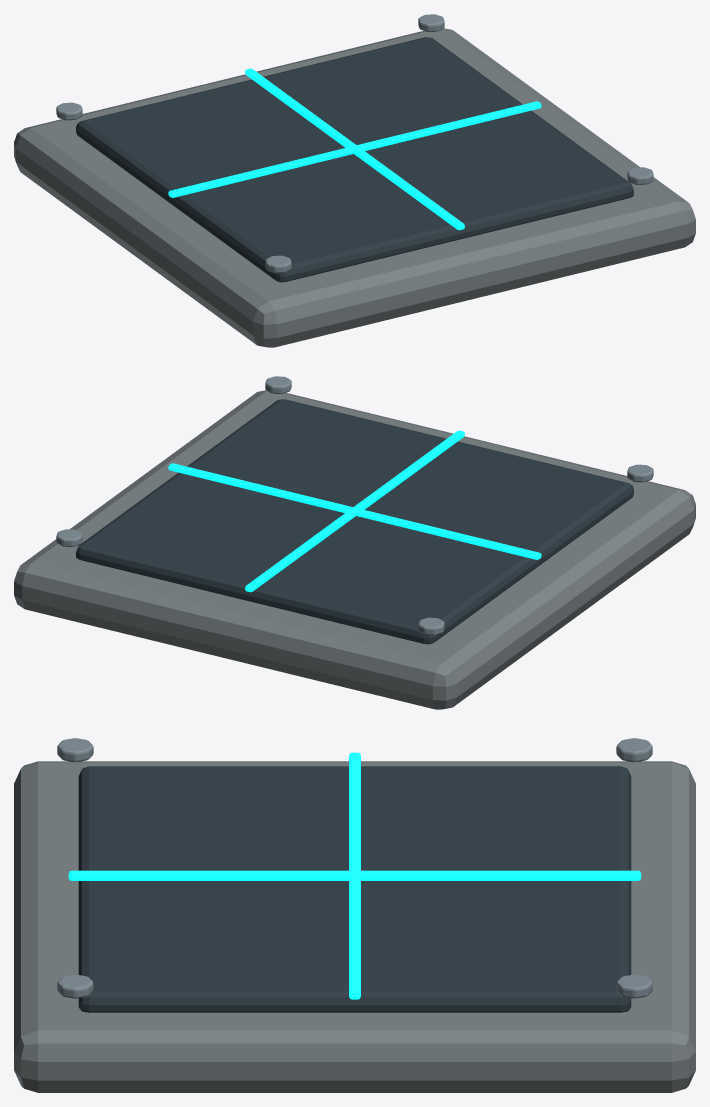
The model's file is Floor-Tile.glb.
3 views of the same model, one above another, from view 1: azimuth 30°, elevation 25°; view 2: azimuth 150°, elevation 25°; view 3: azimuth 270°, elevation 25° (orthographic). The views are drawn at different scales.
Visible parts, largest first — view 1: FloorTile_MetalInset, FloorTile_StoneSlab, FloorTile_CyanSeam_X, FloorTile_CyanSeam_Y; view 2: FloorTile_MetalInset, FloorTile_StoneSlab, FloorTile_CyanSeam_X, FloorTile_CyanSeam_Y; view 3: FloorTile_MetalInset, FloorTile_StoneSlab, FloorTile_CyanSeam_Y, FloorTile_CyanSeam_X, FloorTile_Bolt_0, FloorTile_Bolt_2, FloorTile_Bolt_1, FloorTile_Bolt_3.
Part boxes in pixels (<box>): FloorTile_MetalInset: <box>76,37,633,282</box>; FloorTile_StoneSlab: <box>14,28,695,347</box>; FloorTile_CyanSeam_X: <box>168,101,541,197</box>; FloorTile_CyanSeam_Y: <box>245,68,464,230</box>; FloorTile_MetalInset: <box>76,399,633,644</box>; FloorTile_StoneSlab: <box>14,390,695,709</box>; FloorTile_CyanSeam_X: <box>168,463,541,559</box>; FloorTile_CyanSeam_Y: <box>245,430,464,592</box>; FloorTile_MetalInset: <box>78,766,631,1012</box>; FloorTile_StoneSlab: <box>14,761,695,1092</box>; FloorTile_CyanSeam_Y: <box>68,870,641,880</box>; FloorTile_CyanSeam_X: <box>349,752,360,999</box>; FloorTile_Bolt_0: <box>57,738,93,762</box>; FloorTile_Bolt_2: <box>616,738,652,762</box>; FloorTile_Bolt_1: <box>57,974,93,998</box>; FloorTile_Bolt_3: <box>616,974,652,998</box>.
Bounding box in the file's own units: 2 × 0.3075 × 2.
